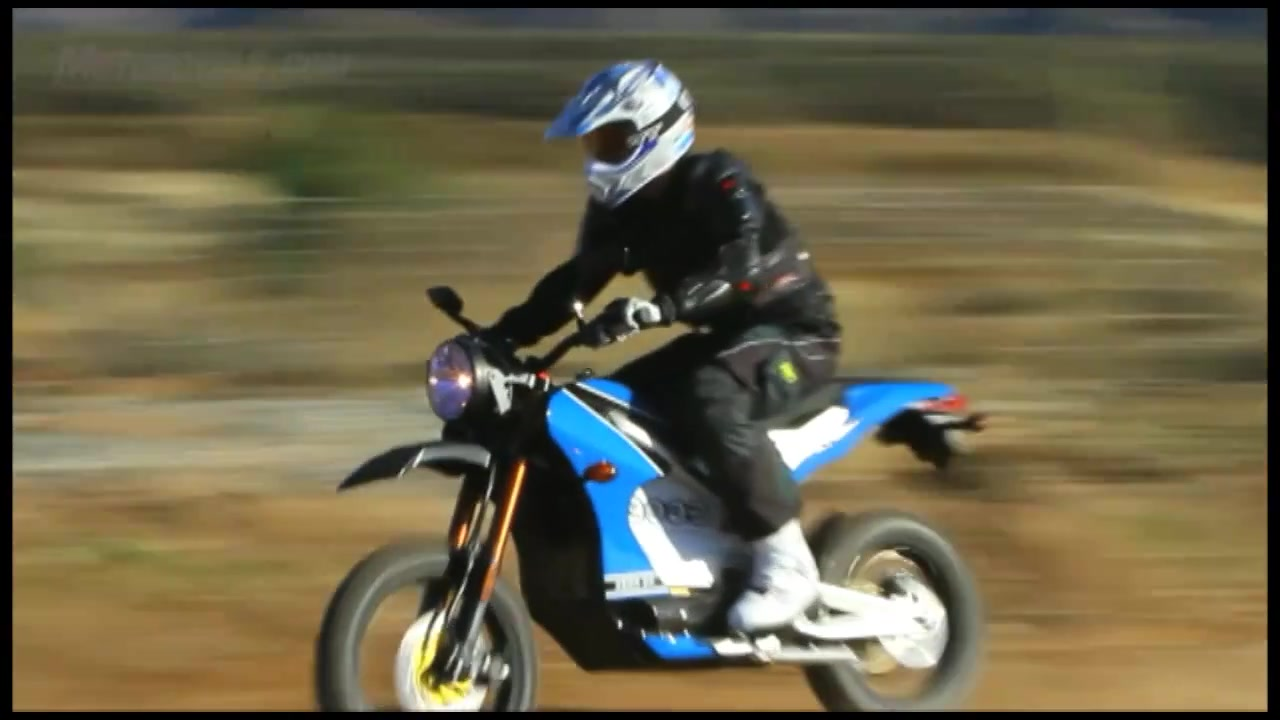motorbike: (310, 285, 990, 715)
